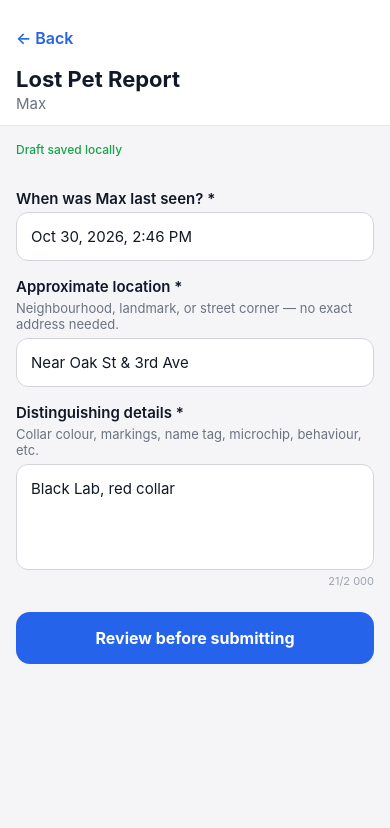
Test: LostPetReportScreen — consent gate in review modal › shows "Consent given" badge after submit consent is recorded
This screenshot has width=390, height=828.
Click the button with aria-label "Review and consent". click: click(195, 638)
box: [16,612,374,664]
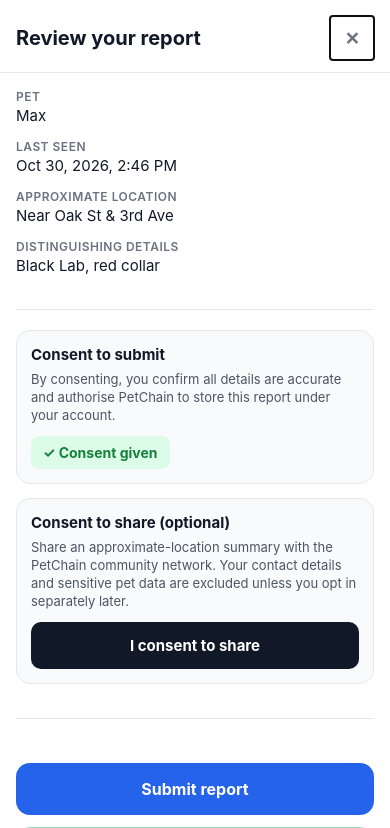
Result: the heading "Review your report" is shown at [16,26,201,50]
Result: the element labelled "Consent given" is shown at [31,436,170,469]
